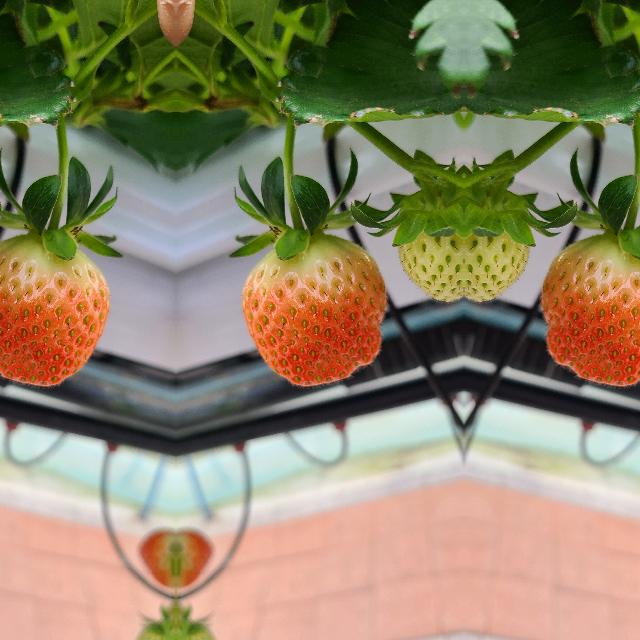Health_100: (242, 234, 384, 386), (0, 234, 108, 385), (541, 234, 640, 385)
Health_25: (395, 174, 463, 302), (463, 174, 531, 302)
